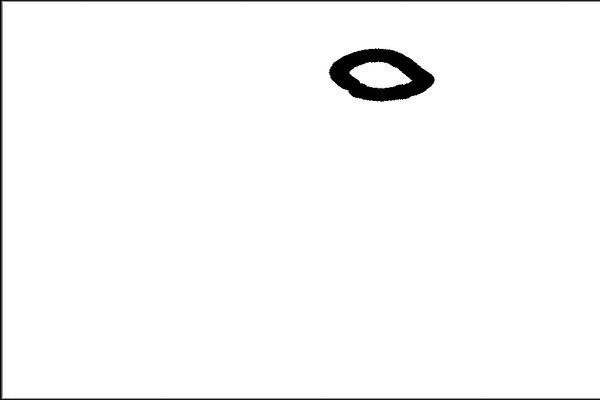O: (313, 44, 441, 111)
